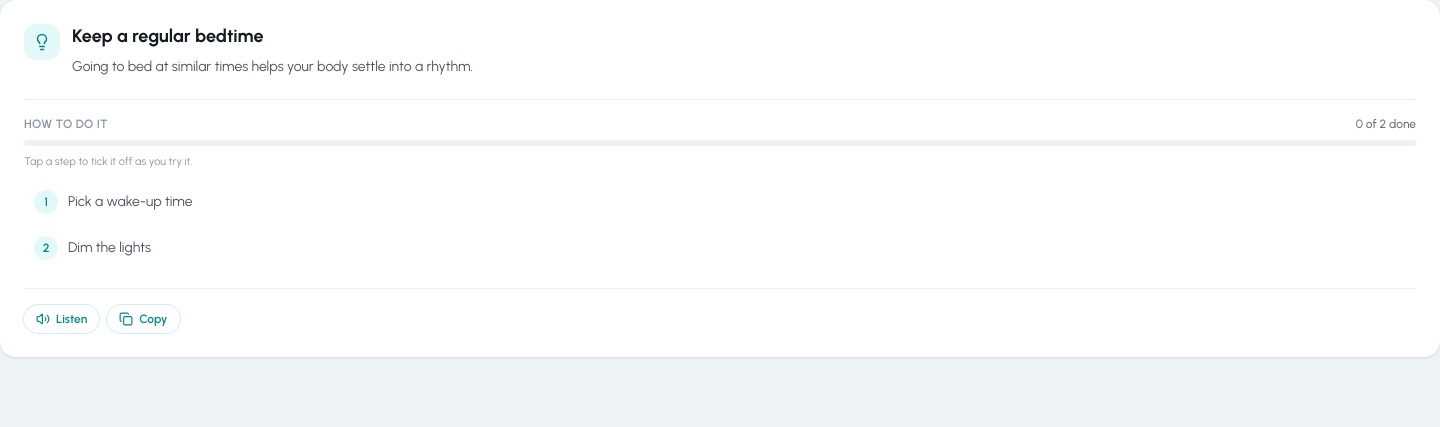
HealthTipCard › lets each step be ticked off and back on, counting what is done
Click the button "Pick a wake-up time" at coordinates (130, 202), box [24,182,1416,222]
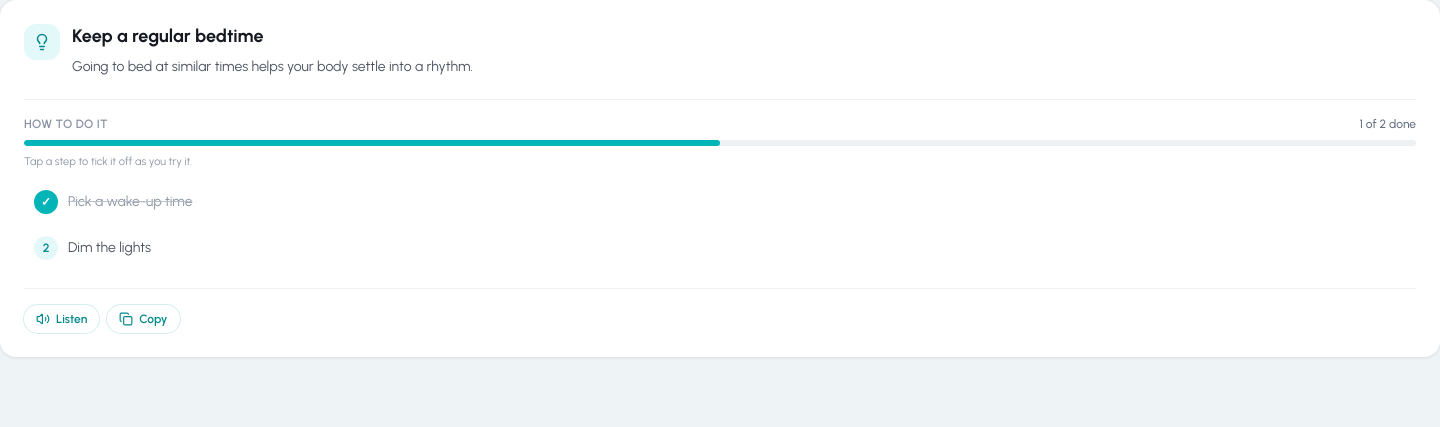
Expected: the button "Pick a wake-up time" is pressed, [24,182,1416,222]
Click the button "Dim the lights" at coordinates (109, 248), box [24,228,1416,268]
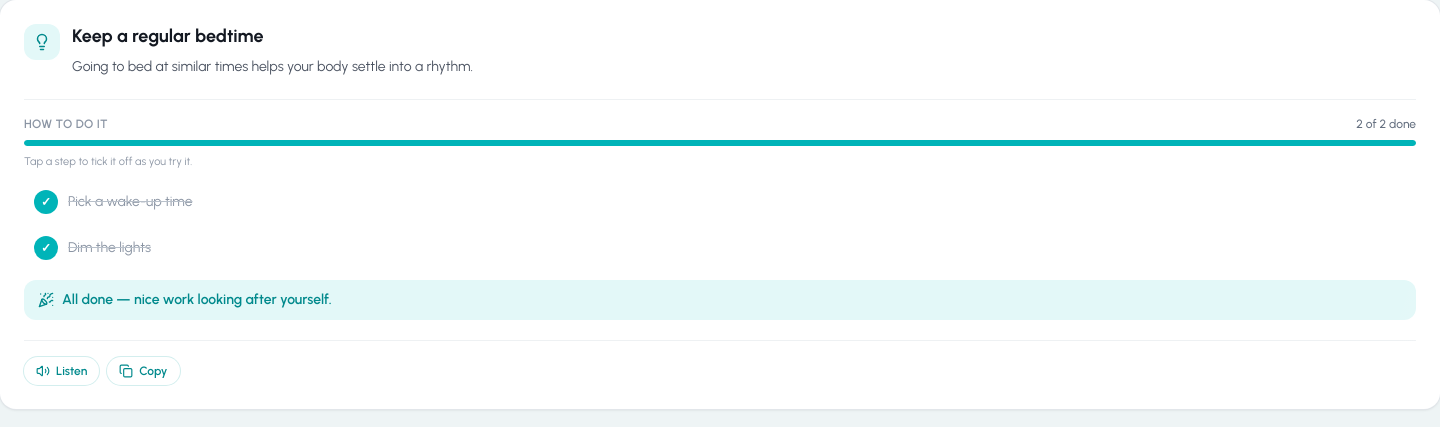
Expected: the text "All done — nice work looking after yourself." is shown, [24,280,1416,320]
Click the button "Pick a wake-up time" at coordinates (130, 202), box [24,182,1416,222]
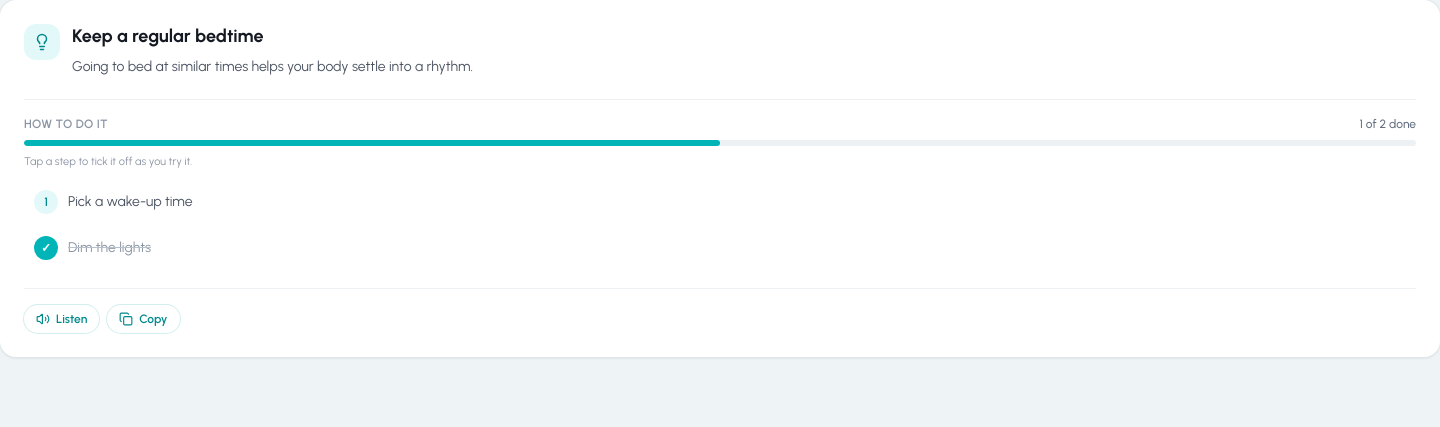
Expected: the text "All done" is gone
